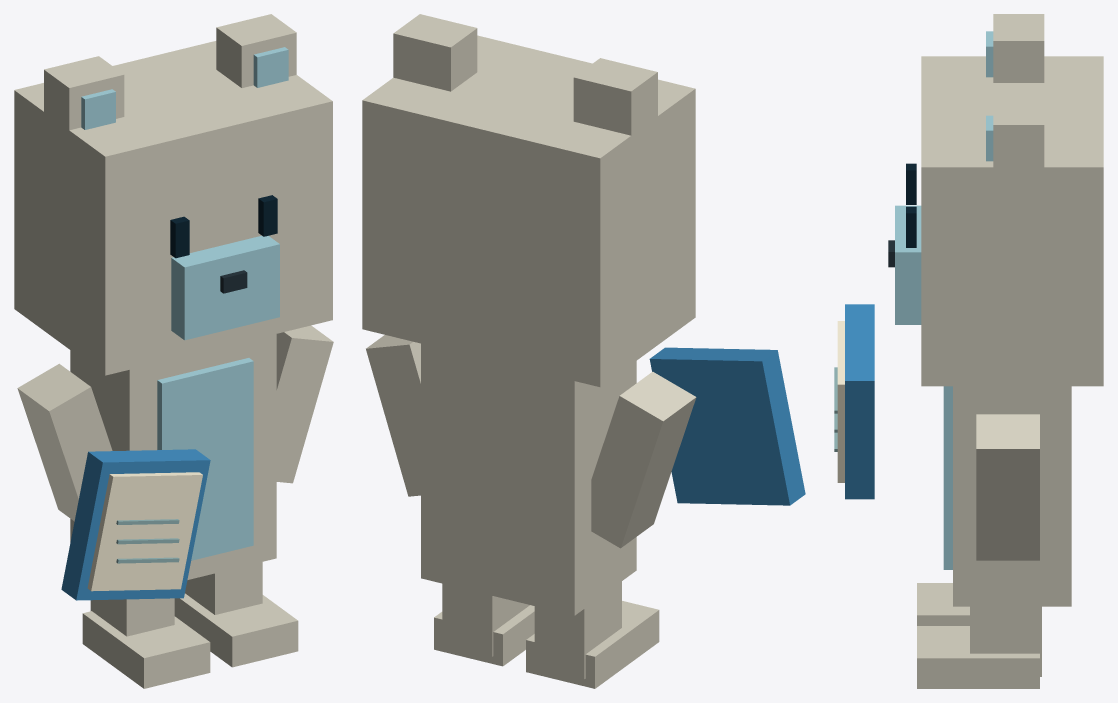
Rendered from polar.glb.
3 views of the same model, side by side, from view 1: azimuth 30°, elevation 25°; view 2: azimuth 150°, elevation 25°; view 3: azimuth 270°, elevation 25° (orthographic). The views are drawn at different scales.
Parts seen in each view (by area): view 1: polar-part-00, polar-part-01, polar-part-02, polar-part-18, polar-part-13, polar-part-05, polar-part-17, polar-part-04, polar-part-08, polar-part-07, polar-part-09, polar-part-11 (+7 smaller); view 2: polar-part-00, polar-part-01, polar-part-17, polar-part-05, polar-part-09, polar-part-08, polar-part-11, polar-part-03, polar-part-04, polar-part-06, polar-part-07; view 3: polar-part-00, polar-part-01, polar-part-08, polar-part-17, polar-part-07, polar-part-11, polar-part-09, polar-part-06, polar-part-13, polar-part-04, polar-part-02, polar-part-18 (+2 smaller).
Part boxes in pixels (box(x1,y1,x2,y2)): polar-part-00: box(14, 41, 332, 375); polar-part-01: box(70, 334, 276, 579); polar-part-02: box(157, 358, 253, 560); polar-part-18: box(87, 472, 202, 591); polar-part-13: box(171, 235, 279, 340); polar-part-05: box(17, 363, 112, 521); polar-part-17: box(61, 449, 210, 600); polar-part-04: box(82, 611, 210, 688); polar-part-08: box(276, 325, 333, 483); polar-part-07: box(174, 593, 298, 667); polar-part-09: box(44, 56, 124, 145); polar-part-11: box(216, 14, 296, 87); polar-part-00: box(362, 35, 695, 386); polar-part-01: box(421, 343, 636, 615); polar-part-17: box(649, 347, 805, 505); polar-part-05: box(591, 371, 696, 548); polar-part-09: box(573, 58, 657, 155); polar-part-08: box(366, 335, 420, 496); polar-part-11: box(393, 14, 477, 91); polar-part-03: box(534, 581, 621, 679); polar-part-04: box(526, 601, 659, 688); polar-part-06: box(442, 583, 529, 656); polar-part-07: box(434, 605, 534, 666); polar-part-00: box(921, 56, 1103, 386); polar-part-01: box(953, 386, 1071, 606); polar-part-08: box(976, 414, 1039, 560); polar-part-17: box(845, 304, 874, 499); polar-part-07: box(917, 626, 1039, 688); polar-part-11: box(993, 98, 1044, 185); polar-part-09: box(993, 14, 1044, 82); polar-part-06: box(970, 606, 1041, 676); polar-part-13: box(895, 205, 921, 324); polar-part-04: box(917, 583, 969, 625); polar-part-02: box(943, 386, 952, 569); polar-part-18: box(837, 321, 844, 482).
Size of the model in its own units: 1.76 by 3.03 by 1.27.
